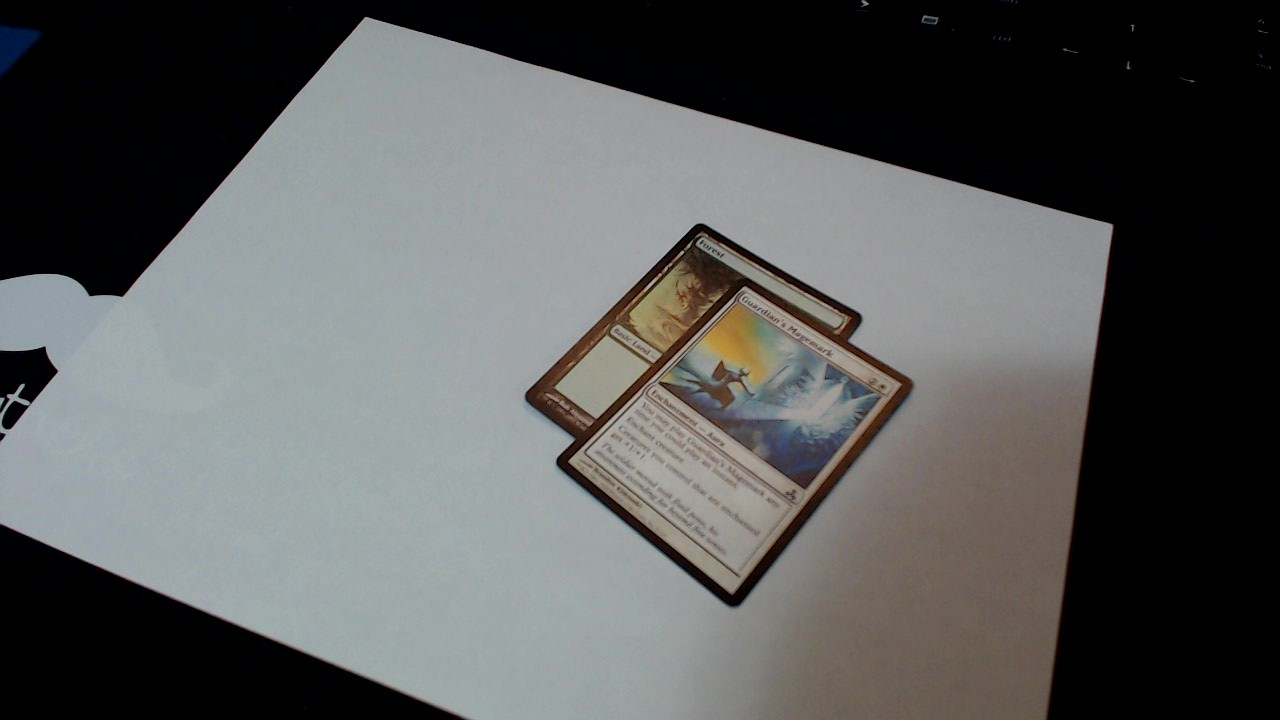MTG Card: (549, 277, 921, 612), (520, 216, 862, 498)
